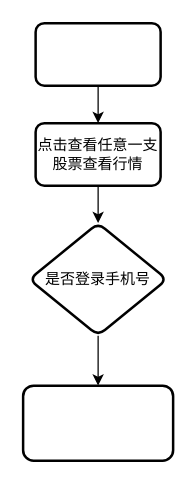
Image size: 195x483. Some labels were removed from this diagram. Here are the shapes that lost their labels. From the top down, the box of each, then its label:
(34, 21, 161, 86): 用户登录易赢App
(21, 384, 174, 461): 展示套餐领取入口
